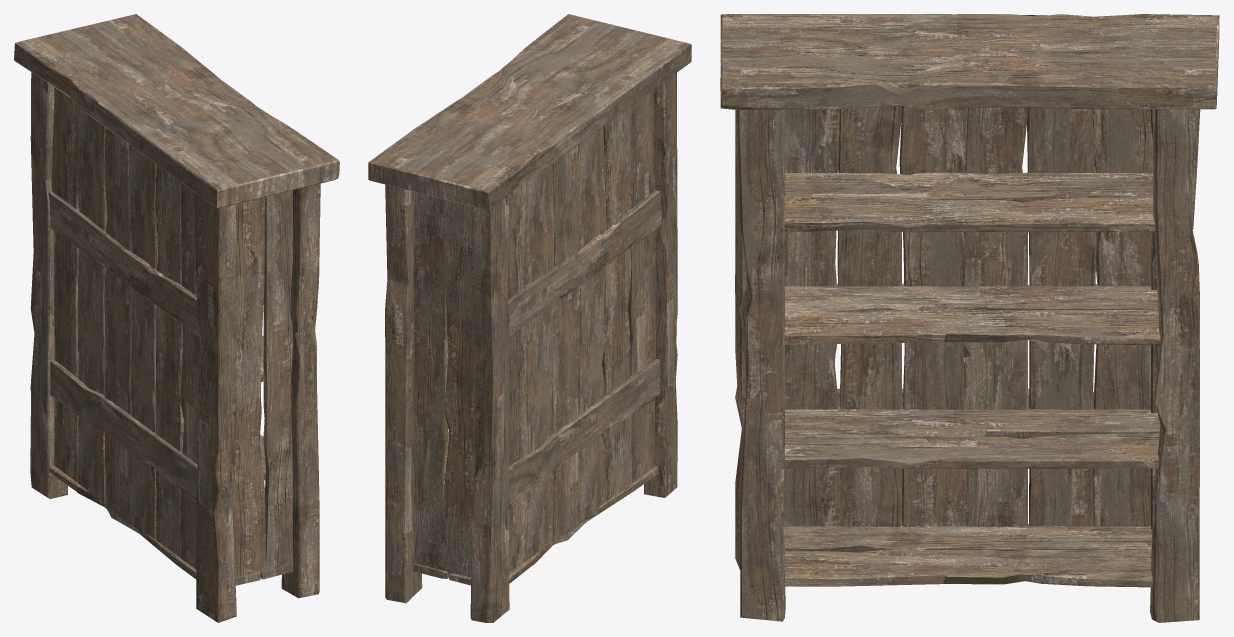
File: SM_Bookshelf_A_01.fbx
3 views of the same model, side by side, from view 1: azimuth 30°, elevation 25°; view 2: azimuth 150°, elevation 25°; view 3: azimuth 270°, elevation 25° (orthographic). The views are drawn at different scales.
Visible parts, largest first — view 1: SM_Bookshelf_A_01_LOD0; view 2: SM_Bookshelf_A_01_LOD0; view 3: SM_Bookshelf_A_01_LOD0.
Part boxes in pixels (x1,y1,x2,y2): SM_Bookshelf_A_01_LOD0: (14,14,339,622); SM_Bookshelf_A_01_LOD0: (368,14,691,622); SM_Bookshelf_A_01_LOD0: (720,14,1219,622).
Bounding box in the file's own units: 59.3 × 168 × 201.
